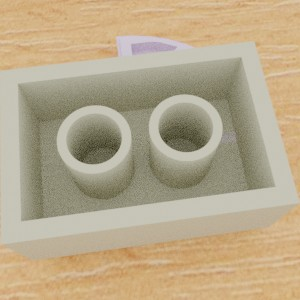lego: (0, 40, 300, 260), (116, 35, 279, 159)
